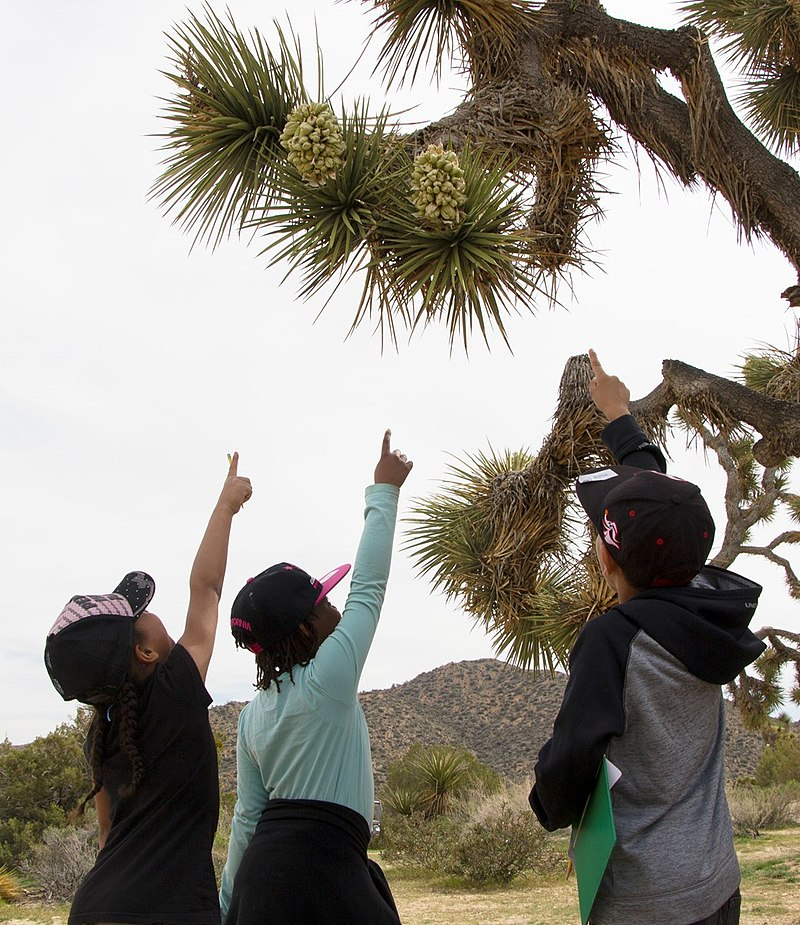pointing_gesture: (580, 347, 635, 413), (211, 449, 254, 519), (370, 427, 418, 485)
